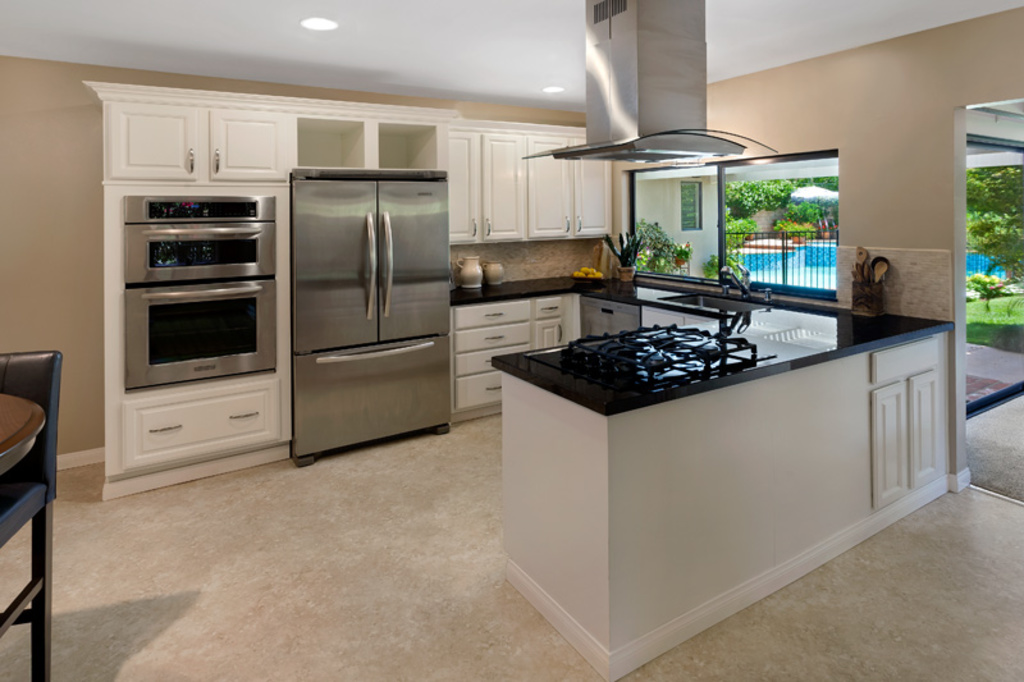cabinet door: (138, 394, 279, 440), (114, 106, 202, 179), (207, 111, 285, 179), (486, 142, 529, 235), (531, 142, 574, 229), (445, 140, 481, 238), (574, 169, 606, 236), (466, 325, 521, 345), (465, 308, 525, 324), (462, 377, 499, 397), (537, 297, 566, 314), (460, 356, 489, 369)
handle: (319, 344, 438, 377), (354, 211, 380, 314), (142, 283, 262, 305), (151, 224, 254, 247), (377, 209, 397, 319), (150, 421, 185, 438), (225, 408, 266, 422), (180, 144, 198, 175), (210, 154, 226, 175)
refrigerator door: (296, 177, 379, 345), (294, 348, 446, 433), (379, 180, 446, 339)
